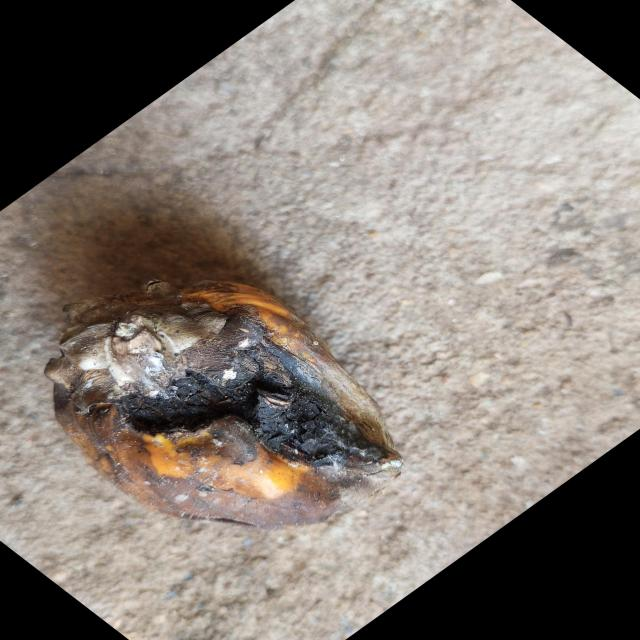damaged: (45, 289, 401, 532)
